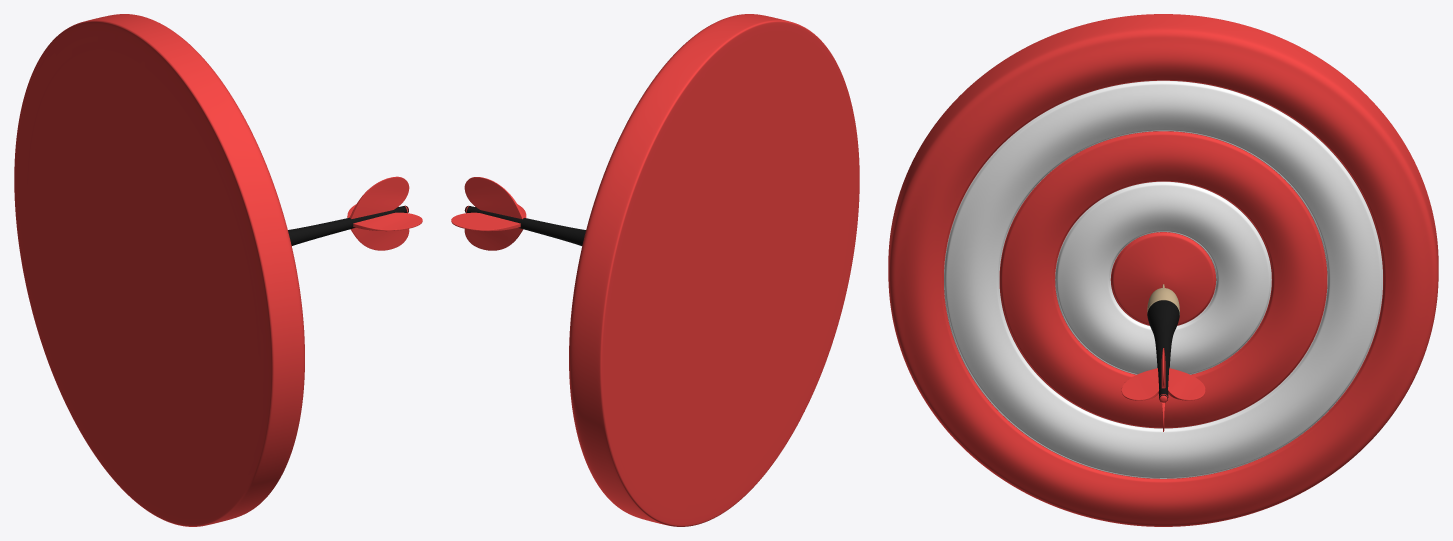
Rendered from modified_game_bar_target_arrow.glb.
3 views of the same model, side by side, from view 1: azimuth 30°, elevation 25°; view 2: azimuth 150°, elevation 25°; view 3: azimuth 270°, elevation 25° (orthographic). The views are drawn at different scales.
Visible parts, largest first — view 1: Cylinder_arrow red_0, Cylinder.001_Material.002_0; view 2: Cylinder_arrow red_0, Cylinder.001_Material.002_0; view 3: Cylinder_arrow red_0, Cylinder_target white_0, Cylinder.001_Material.002_0.
Boxes of the visible parts, left/top/right/bottom form: Cylinder_arrow red_0: left=14, top=14, right=422, bottom=526; Cylinder.001_Material.002_0: left=288, top=205, right=408, bottom=245; Cylinder_arrow red_0: left=451, top=14, right=859, bottom=526; Cylinder.001_Material.002_0: left=465, top=206, right=585, bottom=245; Cylinder_arrow red_0: left=888, top=14, right=1438, bottom=526; Cylinder_target white_0: left=944, top=80, right=1382, bottom=478; Cylinder.001_Material.002_0: left=1147, top=300, right=1179, bottom=402.
Size of the model in its own units: 1.18 by 1.99 by 1.99.
